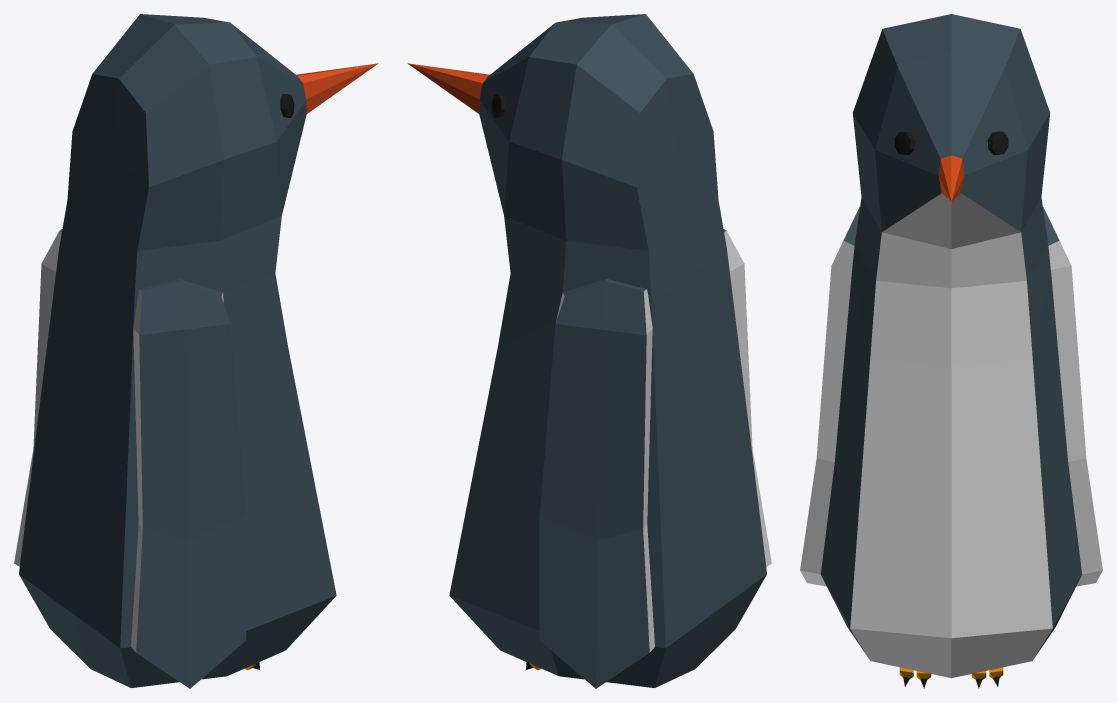
Rendered from penguin.glb.
3 renders of one model, left to right at view 1: azimuth 30°, elevation 25°; view 2: azimuth 150°, elevation 25°; view 3: azimuth 270°, elevation 25°, orthographic.
Parts seen in each view (by area): view 1: Penguin_01_Cube.044; view 2: Penguin_01_Cube.044; view 3: Penguin_01_Cube.044.
Boxes of the visible parts, bbox=[...] form: Penguin_01_Cube.044: bbox=[14, 14, 378, 688]; Penguin_01_Cube.044: bbox=[407, 14, 771, 688]; Penguin_01_Cube.044: bbox=[800, 14, 1102, 688].
Bounding box in the file's own units: 5.19 × 10.33 × 4.4.
